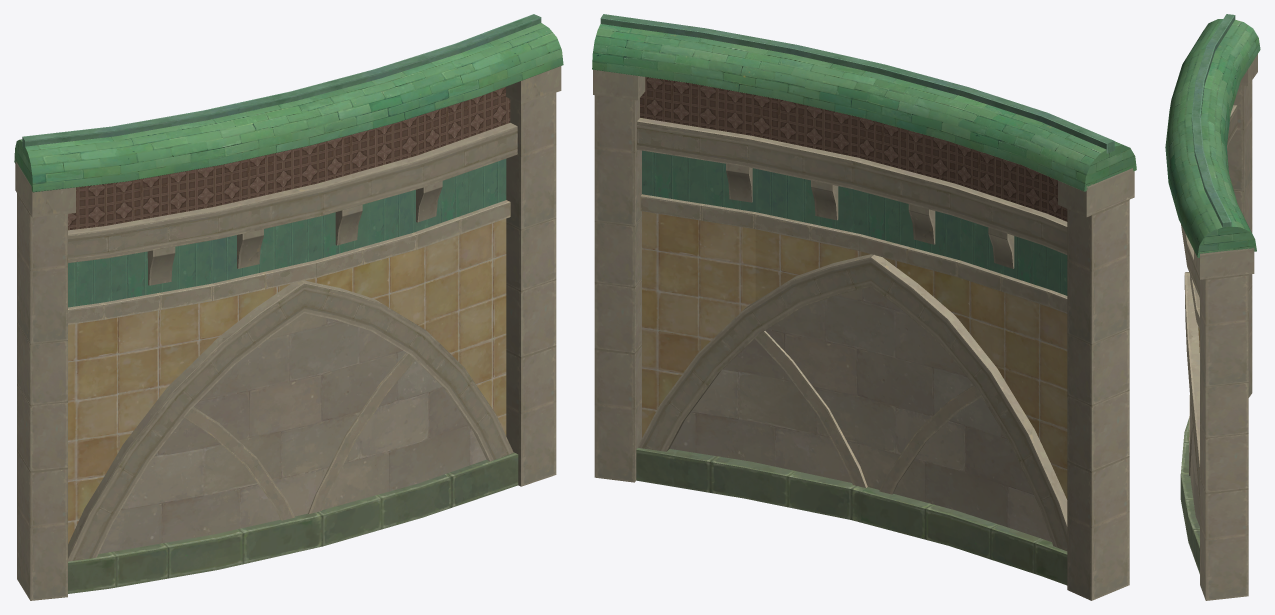
The model's file is Homeworld_Exterior_Xm_Build_ArcWall_01_Lod0.fbx.
3 views of the same model, side by side, from view 1: azimuth 30°, elevation 25°; view 2: azimuth 150°, elevation 25°; view 3: azimuth 270°, elevation 25° (orthographic). The views are drawn at different scales.
Visible parts, largest first — view 1: Area_Xm_Build_XKC_Comp_Ybt_04_Lod0; view 2: Area_Xm_Build_XKC_Comp_Ybt_04_Lod0; view 3: Area_Xm_Build_XKC_Comp_Ybt_04_Lod0.
Part boxes in pixels (x1,y1,x2,y2): Area_Xm_Build_XKC_Comp_Ybt_04_Lod0: (14, 14, 563, 600); Area_Xm_Build_XKC_Comp_Ybt_04_Lod0: (592, 14, 1136, 600); Area_Xm_Build_XKC_Comp_Ybt_04_Lod0: (1165, 14, 1260, 600).
Size of the model in its own units: 9.48 by 7.8 by 1.78.
